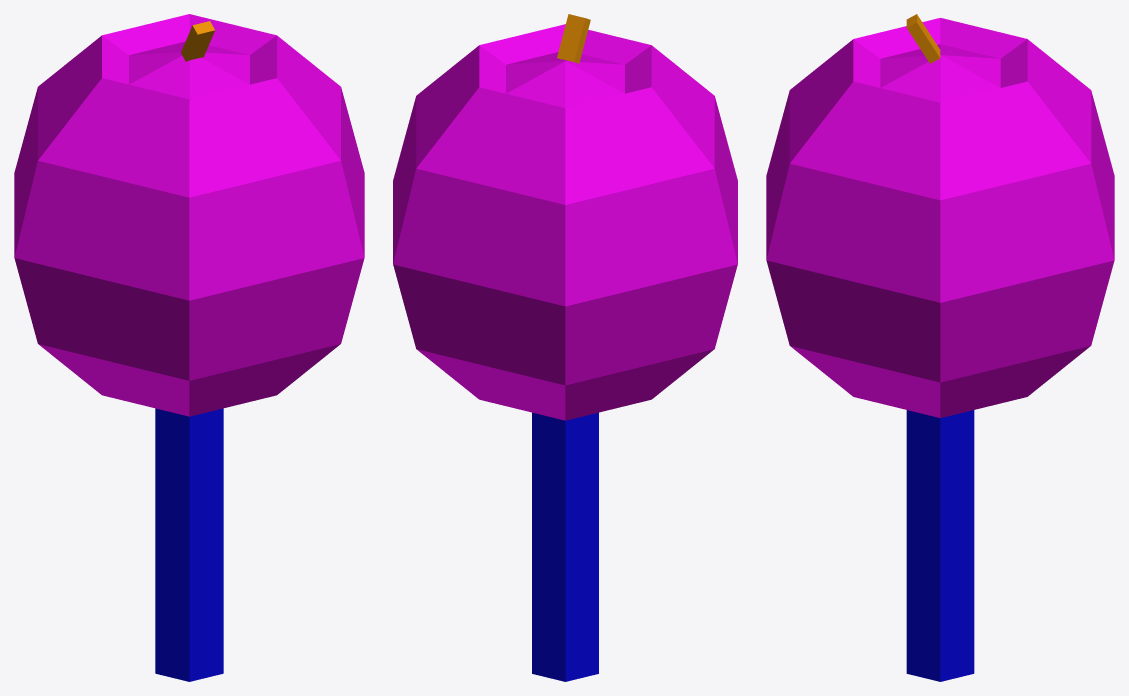
File: Candy apple_fixed.fbx
3 renders of one model, left to right at view 1: azimuth 30°, elevation 25°; view 2: azimuth 150°, elevation 25°; view 3: azimuth 270°, elevation 25°, orthographic.
Visible parts, largest first — view 1: pasted__apple_sphere, pasted__stick, pasted__apple_stem; view 2: pasted__apple_sphere, pasted__stick, pasted__apple_stem; view 3: pasted__apple_sphere, pasted__stick, pasted__apple_stem.
Boxes of the visible parts, left/top/right/bottom form: pasted__apple_sphere: left=14, top=14, right=364, bottom=416; pasted__stick: left=155, top=408, right=223, bottom=681; pasted__apple_stem: left=181, top=21, right=215, bottom=61; pasted__apple_sphere: left=393, top=24, right=737, bottom=420; pasted__stick: left=532, top=412, right=598, bottom=681; pasted__apple_stem: left=557, top=14, right=590, bottom=63; pasted__apple_sphere: left=766, top=18, right=1114, bottom=417; pasted__stick: left=906, top=410, right=974, bottom=681; pasted__apple_stem: left=906, top=14, right=940, bottom=63.
Size of the model in its own units: 2 by 3.55 by 1.73.
